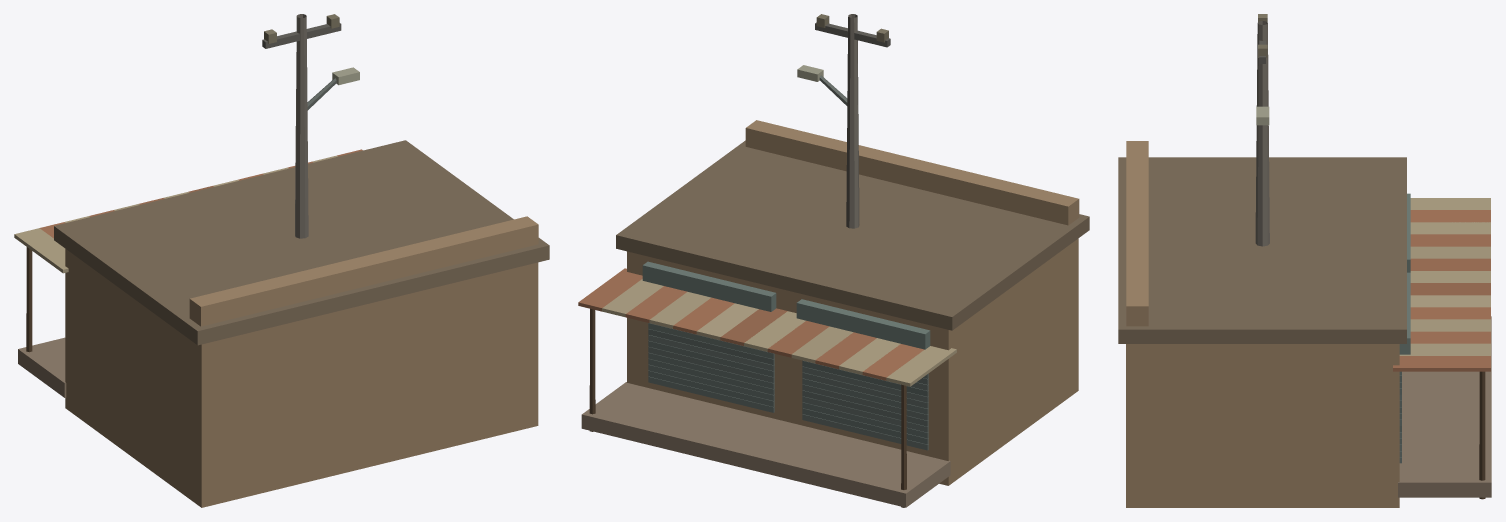
File: kit.glb
3 renders of one model, left to right at view 1: azimuth 30°, elevation 25°; view 2: azimuth 150°, elevation 25°; view 3: azimuth 270°, elevation 25°, orthographic. The views are drawn at different scales.
Parts seen in each view (by area): view 1: Market0, Utility, Streetlamp; view 2: Market0, Utility; view 3: Market0, Utility.
Boxes of the visible parts, left/top/right/bottom form: Market0: left=14, top=140, right=549, bottom=507; Utility: left=262, top=14, right=341, bottom=238; Streetlamp: left=307, top=67, right=359, bottom=110; Market0: left=578, top=120, right=1089, bottom=507; Utility: left=815, top=14, right=890, bottom=228; Market0: left=1118, top=141, right=1491, bottom=507; Utility: left=1255, top=14, right=1269, bottom=246.
Size of the model in its own units: 5.96 by 6.5 by 5.45.
